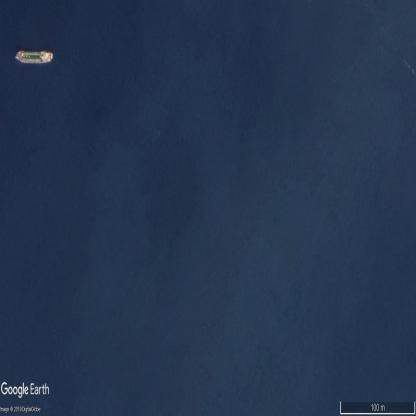ship: (15, 48, 53, 64)
